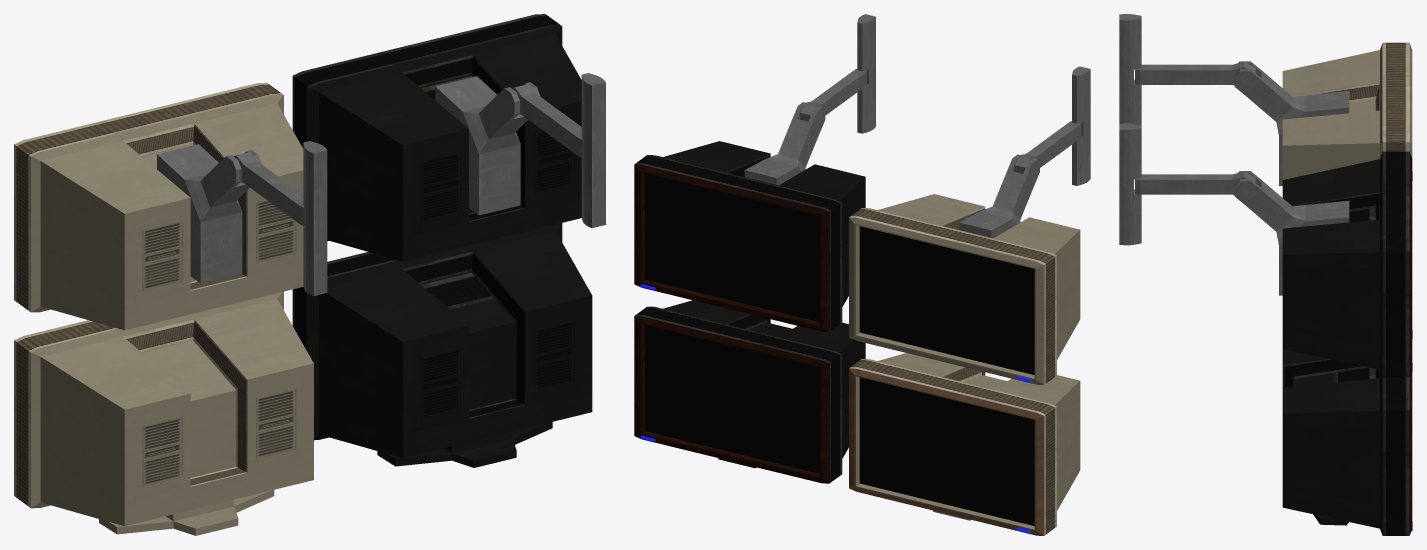
Rendered from retro_cyberpunk_computer_screens.glb.
3 renders of one model, left to right at view 1: azimuth 30°, elevation 25°; view 2: azimuth 150°, elevation 25°; view 3: azimuth 270°, elevation 25°, orthographic. The views are drawn at different scales.
Parts seen in each view (by area): view 1: Object_9, Object_7, Object_8, Object_6; view 2: Object_5, Object_7, Object_9, Object_6, Object_4, Object_8, Object_2; view 3: Object_9, Object_6, Object_7, Object_8, Object_4.
Boxes of the visible parts, box(x1,y1,x2,y2) form: Object_9: box(292, 14, 592, 467); Object_7: box(31, 95, 313, 535); Object_8: box(14, 82, 304, 507); Object_6: box(157, 73, 605, 296); Object_5: box(645, 173, 1034, 525); Object_7: box(849, 194, 1080, 529); Object_9: box(635, 141, 865, 483); Object_6: box(744, 14, 1090, 238); Object_4: box(634, 164, 829, 483); Object_8: box(849, 207, 1056, 535); Object_2: box(849, 368, 1043, 535); Object_9: box(1282, 151, 1409, 535); Object_6: box(1119, 14, 1349, 295); Object_7: box(1282, 43, 1412, 179); Object_8: box(1291, 42, 1409, 151); Object_4: box(1409, 152, 1412, 534).
Bounding box in the file's own units: 7.64 × 6.24 × 4.52.
8 materials, 6 textured.
